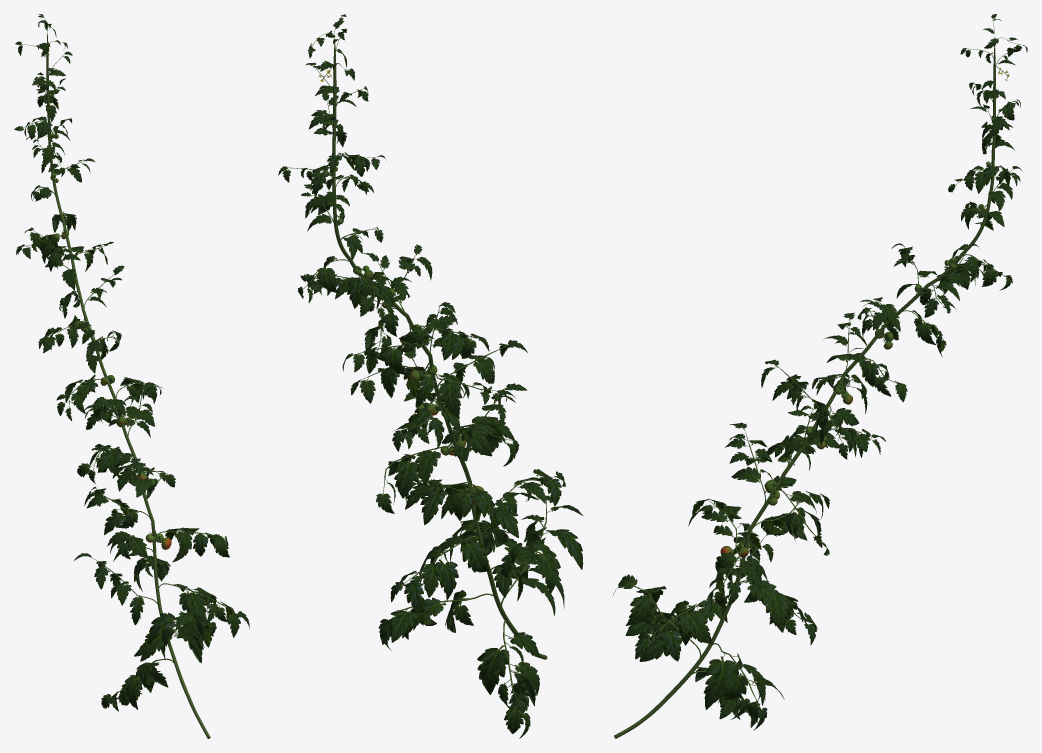
Rendered from tomato_007.glb.
3 renders of one model, left to right at view 1: azimuth 30°, elevation 25°; view 2: azimuth 150°, elevation 25°; view 3: azimuth 270°, elevation 25°, orthographic. The views are drawn at different scales.
Parts seen in each view (by area): view 1: tomato_007; view 2: tomato_007; view 3: tomato_007.
Boxes of the visible parts, x1,y1,x2,y2 form: tomato_007: (14, 14, 249, 738); tomato_007: (278, 14, 583, 738); tomato_007: (613, 14, 1027, 738).
Bounding box in the file's own units: 0.7296 × 3.16 × 1.63.
17 materials, 16 textured.
